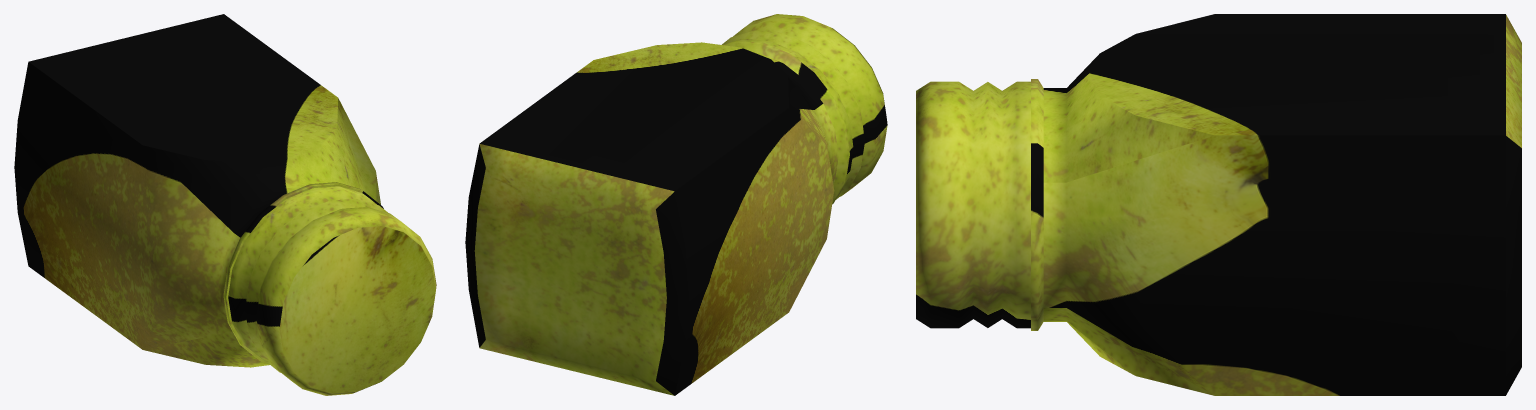
The picture shows the model from 3 angles, left to right: view 1: azimuth 30°, elevation 25°; view 2: azimuth 150°, elevation 25°; view 3: azimuth 270°, elevation 25°; orthographic projection. The views are drawn at different scales.
Bounding box in the file's own units: 0.5424 × 0.4744 × 1.
